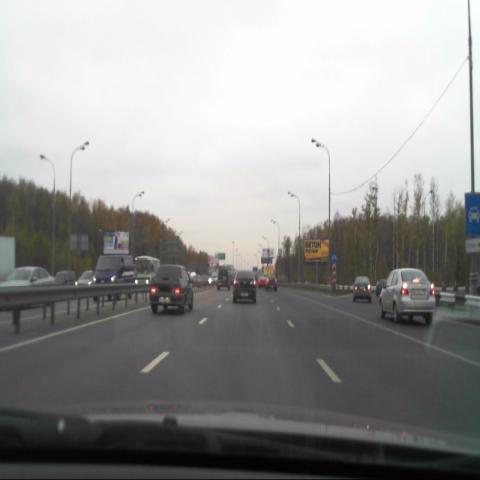5_3: (466, 194, 480, 233)
